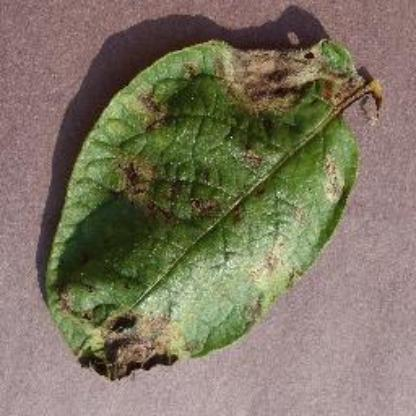Late-Blight: (35, 23, 391, 387)
